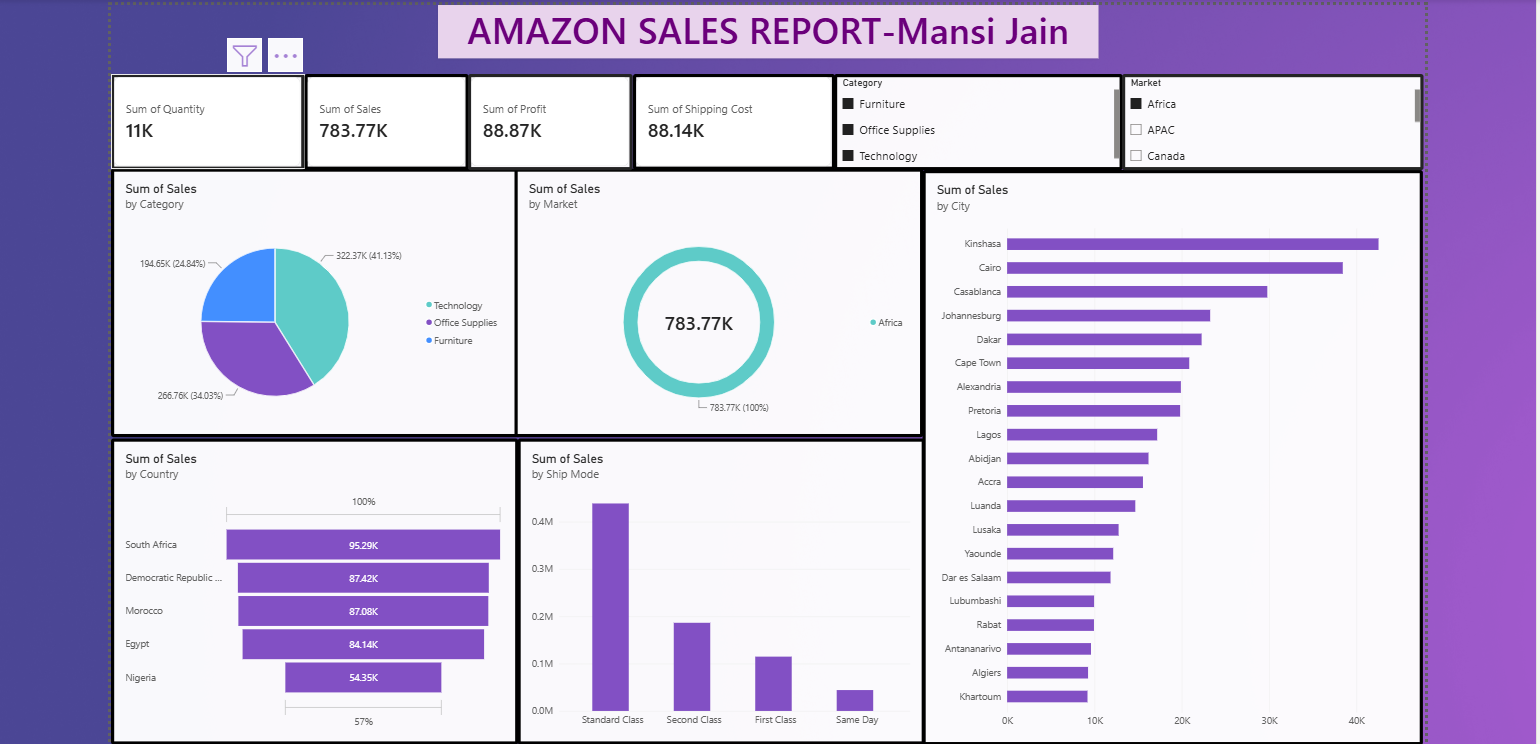

What the dashboard file says about the page in this screenshot:
{"tool":"powerbi","page":{"name":"Page 1","canvas":[1920,1080],"ordinal":0},"visuals":[{"type":"pieChart","fields":{"Category":["Orders.Category"],"Y":["Sum(Orders.Sales)"]},"box":[0,240,595,392.5],"z":0},{"type":"donutChart","fields":{"Category":["Orders.Market"],"Y":["Sum(Orders.Sales)"]},"box":[590,240,597.5,392.5],"z":1},{"type":"columnChart","fields":{"Category":["Orders.Ship Mode"],"Y":["Sum(Orders.Sales)"]},"box":[595,632.5,595,447.5],"z":2},{"type":"funnel","fields":{"Category":["Orders.Country"],"Y":["Sum(Orders.Sales)"]},"box":[0,632.5,595,447.5],"z":3},{"type":"barChart","fields":{"Category":["Orders.City"],"Y":["Sum(Orders.Sales)"]},"box":[1186,241.1,731.2,840.6],"z":4},{"type":"textbox","box":[478.1,0,965.6,78.1],"z":7},{"type":"cardVisual","fields":{"Data":["Sum(Orders.Quantity)"]},"box":[0,100,282.5,140],"z":8},{"type":"cardVisual","fields":{"Data":["Sum(Orders.Sales)"]},"box":[282.5,100,240,140],"z":9},{"type":"cardVisual","fields":{"Data":["Sum(Orders.Profit)"]},"box":[521.9,100,240.6,140.6],"z":10},{"type":"cardVisual","fields":{"Data":["Sum(Orders.Shipping Cost)"]},"box":[762.5,100,295,140],"z":11},{"type":"slicer","fields":{"Values":["Orders.Category"]},"box":[1056.2,100,421.9,140.6],"z":12},{"type":"slicer","fields":{"Values":["Orders.Market"]},"box":[1478.1,100,440.6,140.6],"z":13}]}

Visuals, with their boxes in screenshot pixels (x1, y1, x2, y2):
pieChart - Orders.Category x Sum(Orders.Sales): BBox(108, 167, 514, 435)
donutChart - Orders.Market x Sum(Orders.Sales): BBox(510, 167, 917, 435)
columnChart - Orders.Ship Mode x Sum(Orders.Sales): BBox(514, 435, 919, 740)
funnel - Orders.Country x Sum(Orders.Sales): BBox(108, 435, 514, 740)
barChart - Orders.City x Sum(Orders.Sales): BBox(916, 168, 1414, 741)
textbox: BBox(434, 4, 1092, 57)
cardVisual - Sum(Orders.Quantity): BBox(108, 72, 301, 167)
cardVisual - Sum(Orders.Sales): BBox(301, 72, 464, 167)
cardVisual - Sum(Orders.Profit): BBox(464, 72, 628, 168)
cardVisual - Sum(Orders.Shipping Cost): BBox(628, 72, 829, 167)
slicer - Orders.Category: BBox(828, 72, 1115, 168)
slicer - Orders.Market: BBox(1115, 72, 1415, 168)
